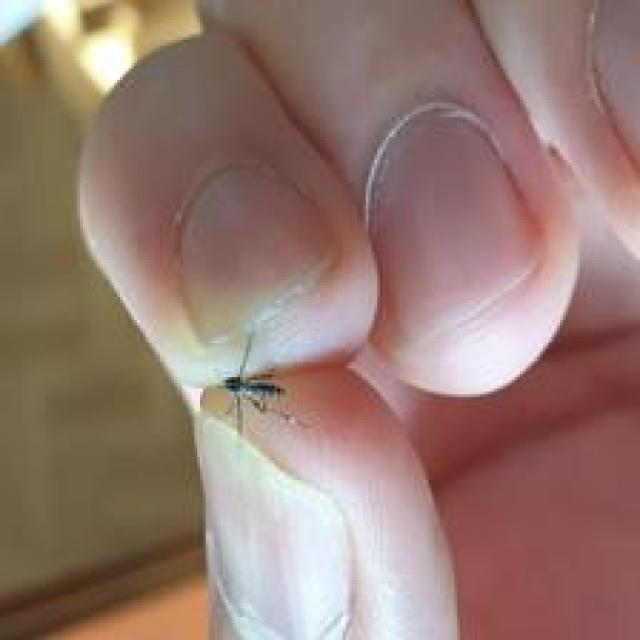Aedes albopictus: (204, 332, 313, 437)
